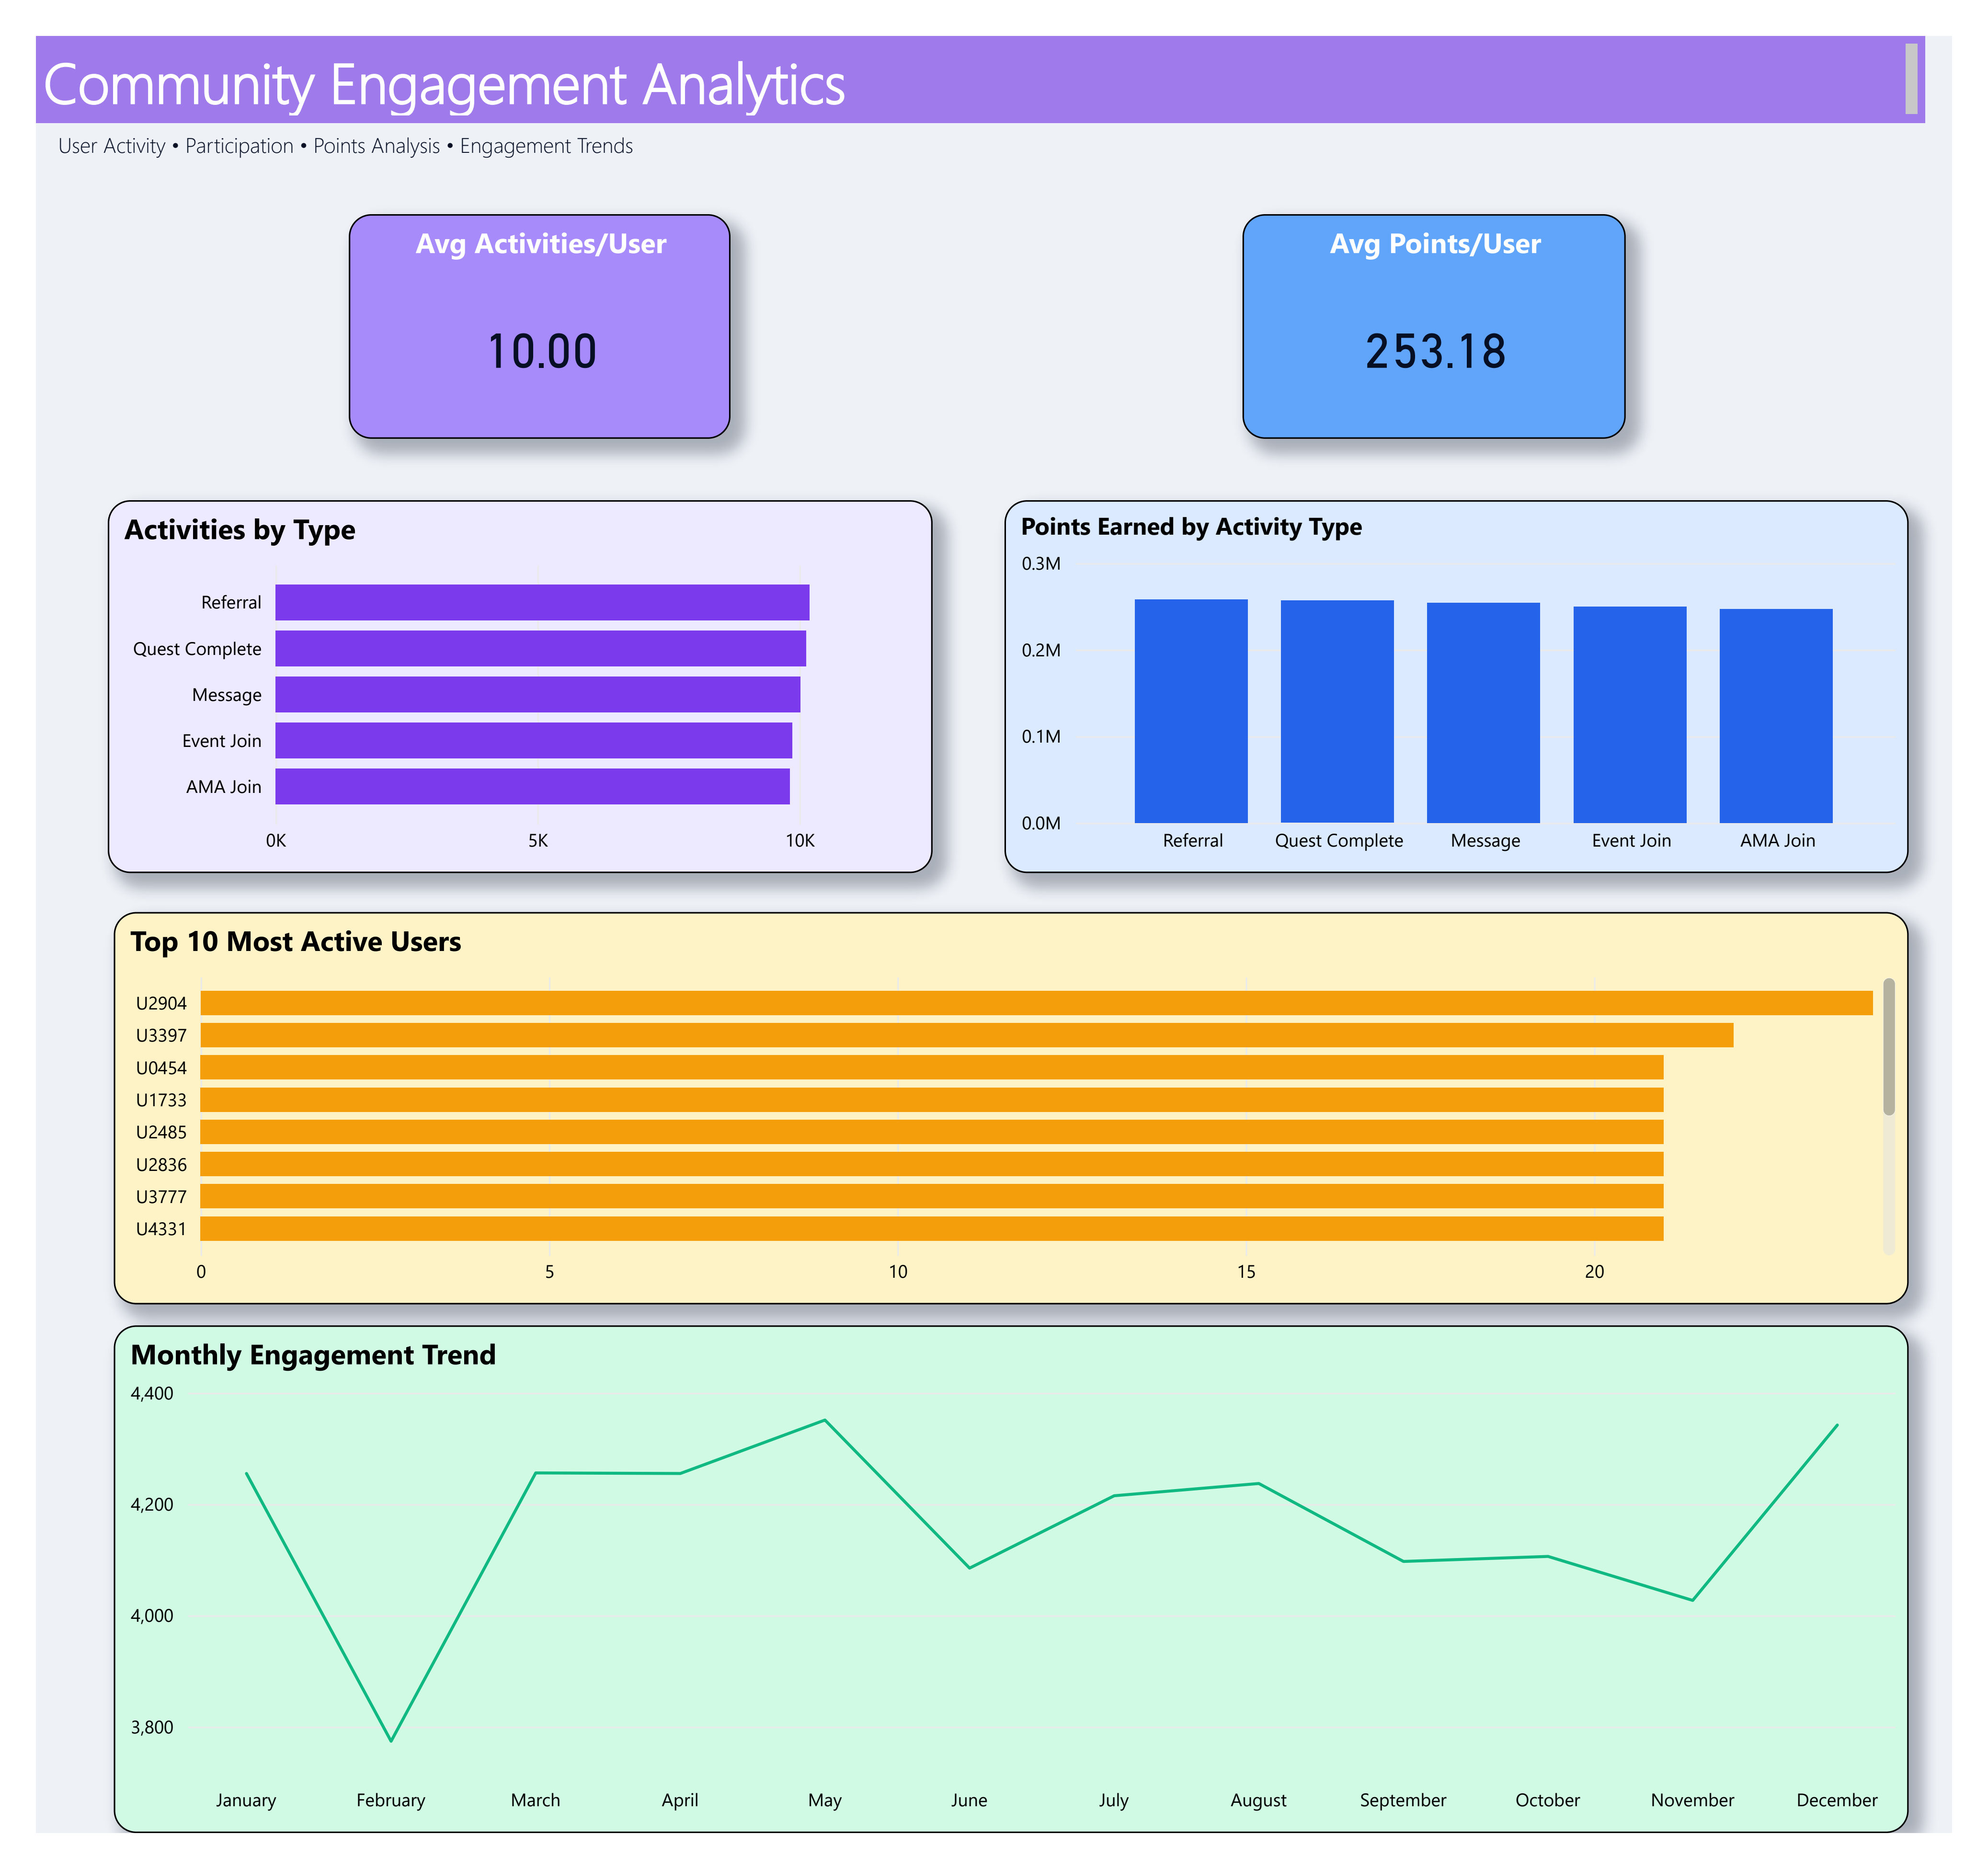

Layout of this report page (visuals, bound fields, positions):
{"tool":"powerbi","page":{"name":"Community Engagement","canvas":[1280,1200],"ordinal":1},"visuals":[{"type":"textbox","box":[0,0,1261.9,57.9],"z":0},{"type":"textbox","box":[9.7,57.9,1261.9,31.4],"z":1},{"type":"card","title":"Avg Points/User","fields":{"Values":["activities.Avg Points Per User"]},"box":[806.3,118.6,255.4,150.8],"z":2},{"type":"card","title":"Avg Activities/User","fields":{"Values":["activities.Avg Activities Per User"]},"box":[209.1,118.6,255.4,150.8],"z":3},{"type":"clusteredBarChart","title":"Activities by Type","fields":{"Category":["activities.activity_type"],"Y":["CountNonNull(activities.activity_id)"]},"box":[48.3,309.7,550.9,249.3],"z":4},{"type":"clusteredColumnChart","title":"Points Earned by Activity Type","fields":{"Category":["activities.activity_type"],"Y":["Sum(activities.points_earned)"]},"box":[647.5,309.7,603.2,249.3],"z":5},{"type":"clusteredBarChart","title":"Top 10 Most Active Users","fields":{"Y":["CountNonNull(activities.activity_id)"],"Category":["activities.user_id"]},"box":[52.3,585.1,1198.4,261.4],"z":6},{"type":"lineChart","title":"Monthly Engagement Trend","fields":{"Category":["activities.activity_date.Variation.Date Hierarchy.Month"],"Y":["CountNonNull(activities.activity_id)"]},"box":[52.3,860.6,1198.4,339.8],"z":7}]}

Visuals, with their boxes in screenshot pixels (x1, y1, x2, y2), scaled from the page's 1280x1200 canvas onto the 1988x1869 screenshot:
textbox: <bbox>0, 0, 1960, 90</bbox>
textbox: <bbox>15, 90, 1975, 139</bbox>
"Avg Points/User" card: <bbox>1252, 185, 1649, 420</bbox>
"Avg Activities/User" card: <bbox>325, 185, 721, 420</bbox>
"Activities by Type" clusteredBarChart: <bbox>75, 482, 931, 871</bbox>
"Points Earned by Activity Type" clusteredColumnChart: <bbox>1005, 482, 1942, 871</bbox>
"Top 10 Most Active Users" clusteredBarChart: <bbox>81, 911, 1942, 1319</bbox>
"Monthly Engagement Trend" lineChart: <bbox>81, 1341, 1942, 1869</bbox>
